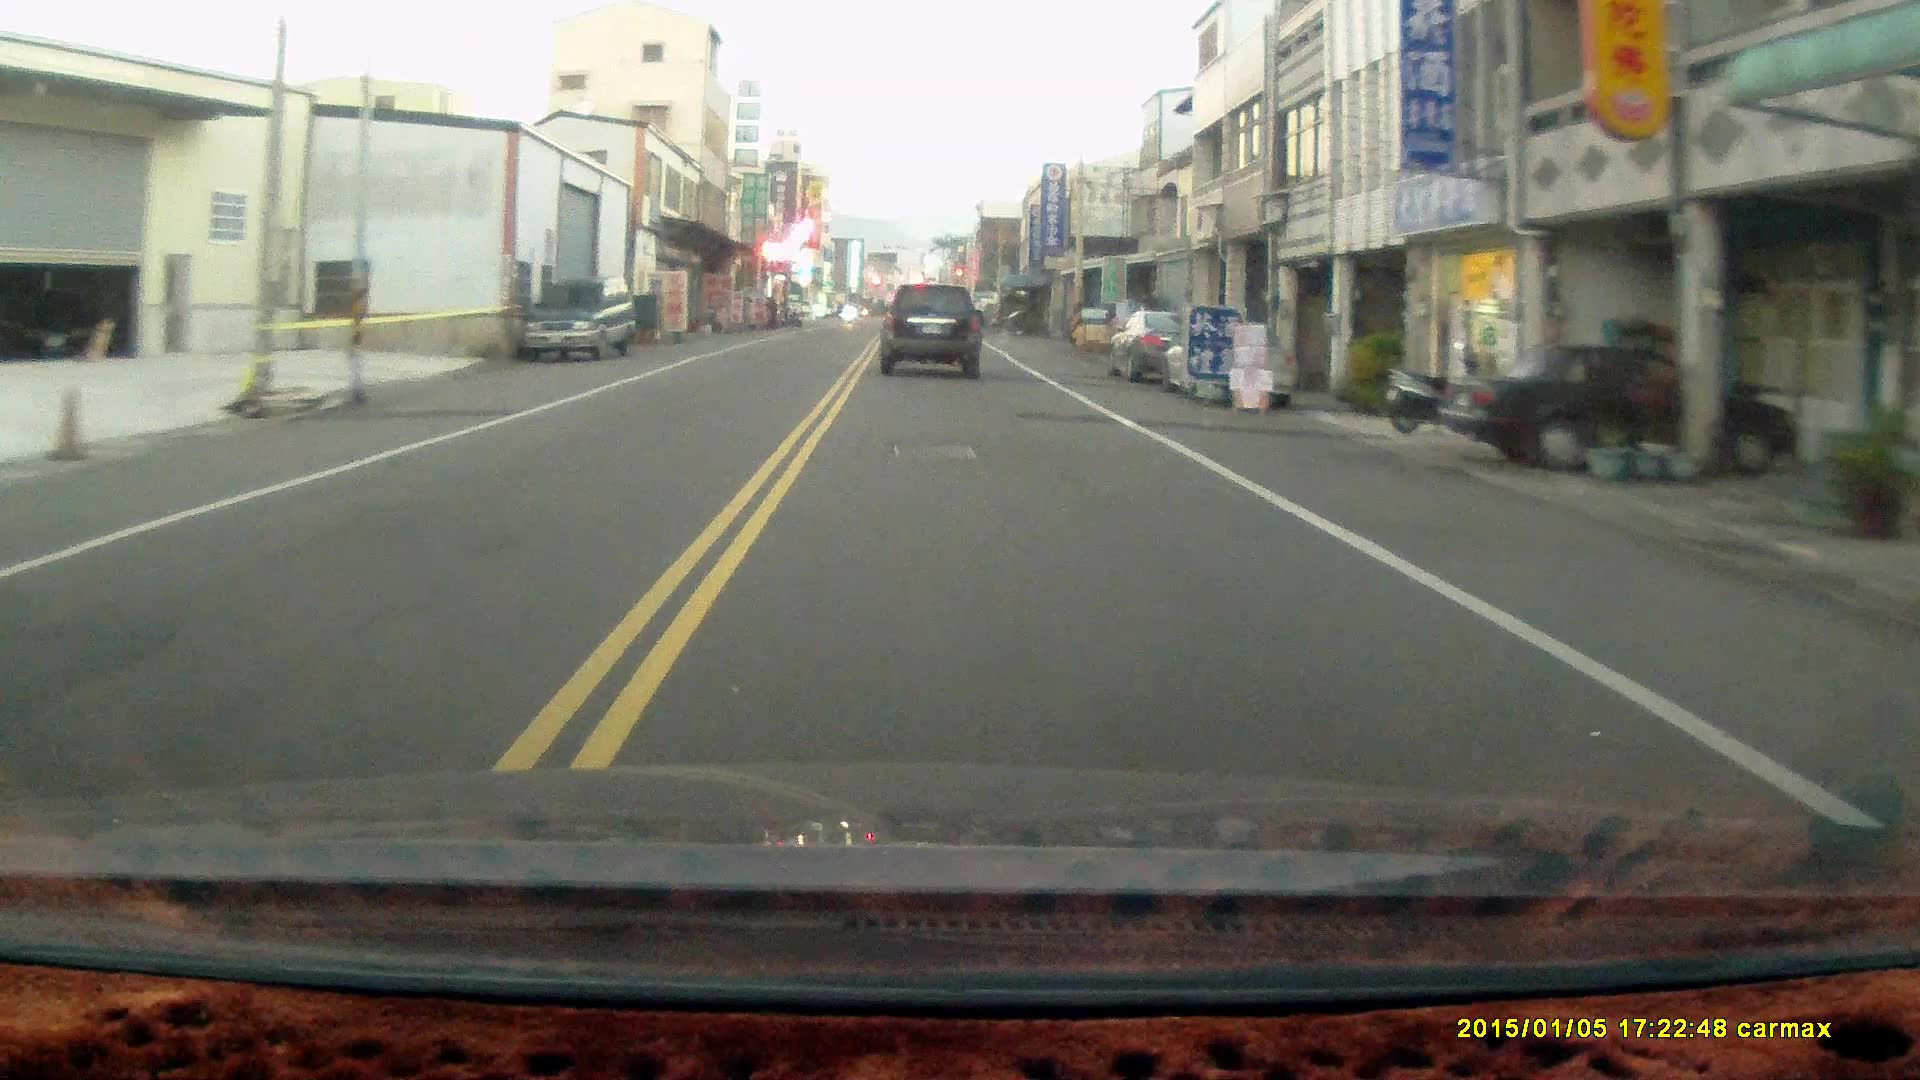vehicle: (1440, 342, 1800, 471), (1164, 323, 1302, 411), (880, 284, 984, 382), (522, 281, 640, 364), (1109, 309, 1229, 385)
